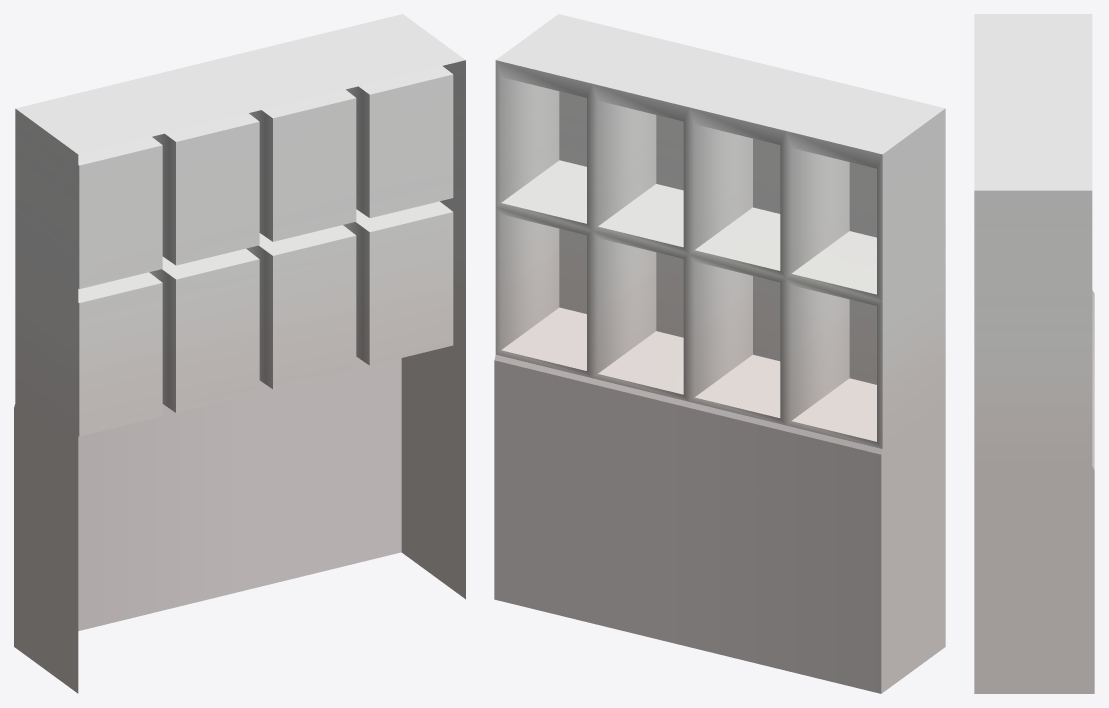
The model's file is Doll_OB_cabinet_001_collider.fbx.
The picture shows the model from 3 angles, left to right: view 1: azimuth 30°, elevation 25°; view 2: azimuth 150°, elevation 25°; view 3: azimuth 270°, elevation 25°; orthographic projection. The views are drawn at different scales.
Parts seen in each view (by area): view 1: Doll_OB_cabinet_001_collider; view 2: Doll_OB_cabinet_001_collider; view 3: Doll_OB_cabinet_001_collider.
Part boxes in pixels (box(x1,y1,x2,y2)): Doll_OB_cabinet_001_collider: box(14, 14, 465, 693); Doll_OB_cabinet_001_collider: box(494, 14, 945, 693); Doll_OB_cabinet_001_collider: box(974, 14, 1094, 693).
Size of the model in its own units: 123 by 163 by 35.29.
1 material, 1 textured.
